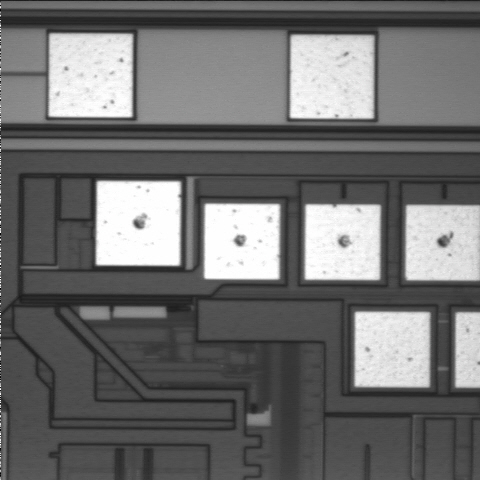pad: (96, 181, 181, 266), (290, 35, 374, 119), (49, 34, 133, 117), (204, 204, 280, 280), (305, 204, 381, 280), (355, 312, 430, 387)
